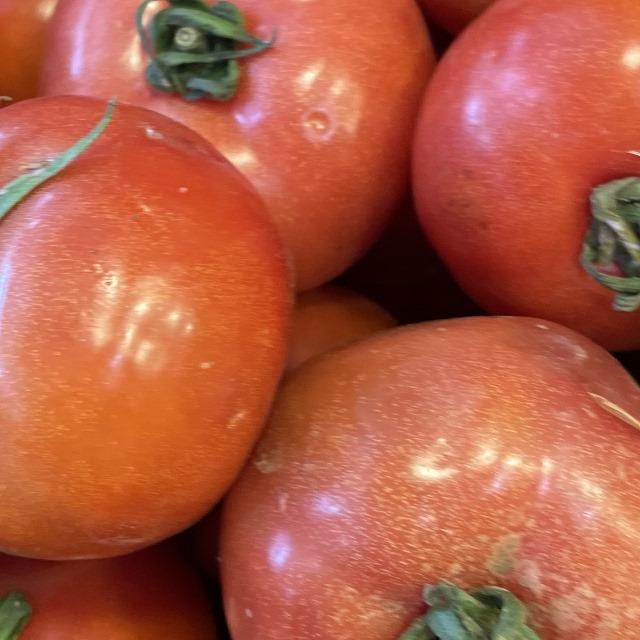tomato: (195, 272, 640, 640), (0, 87, 307, 555), (405, 0, 640, 335)
